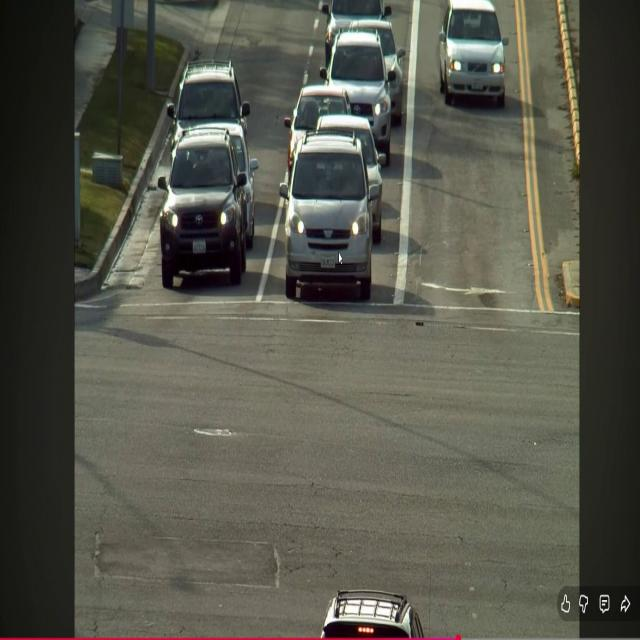car: (279, 131, 379, 300), (158, 128, 247, 288), (320, 31, 395, 163), (317, 115, 385, 244), (439, 0, 508, 107), (167, 60, 250, 144), (204, 123, 258, 249), (348, 19, 405, 124), (284, 84, 350, 173), (321, 591, 423, 638), (321, 0, 391, 66)
